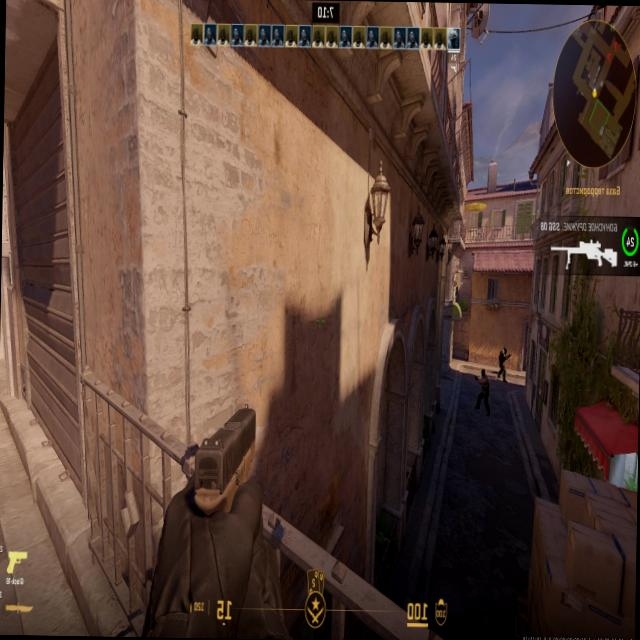CT: (498, 348, 508, 374)
CT_heat: (502, 350, 505, 355)
T: (480, 368, 490, 410)
T_heat: (483, 373, 487, 383)
